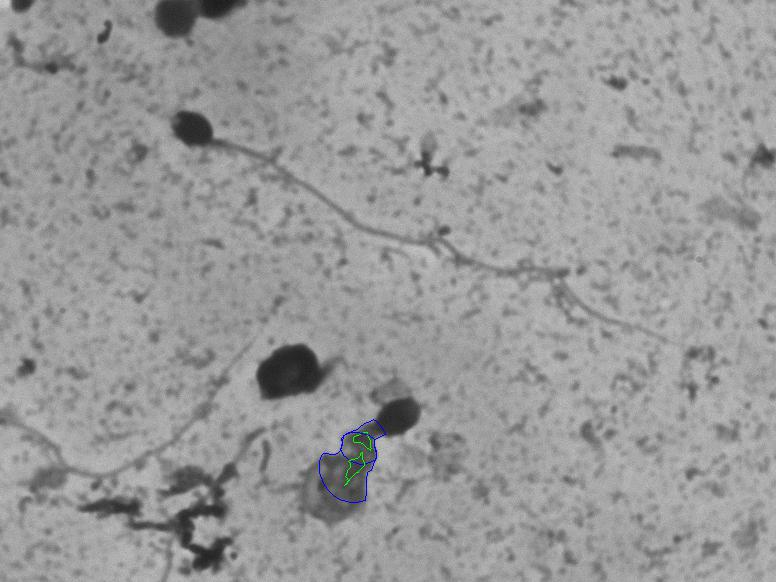Abnormal: (161, 95, 698, 364)
